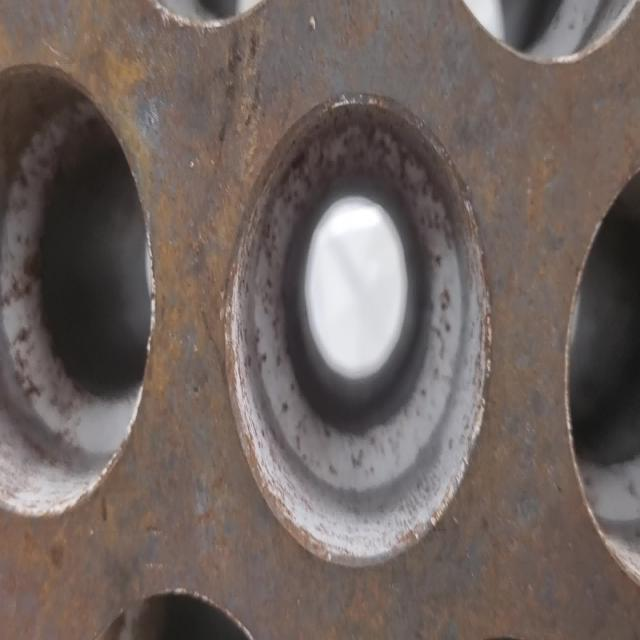Hole: (225, 89, 492, 575), (2, 62, 156, 576), (563, 95, 639, 630)
